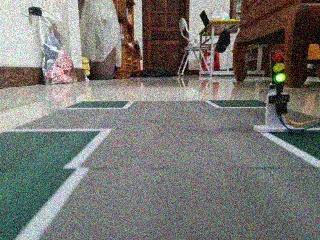green: (264, 45, 289, 94)
